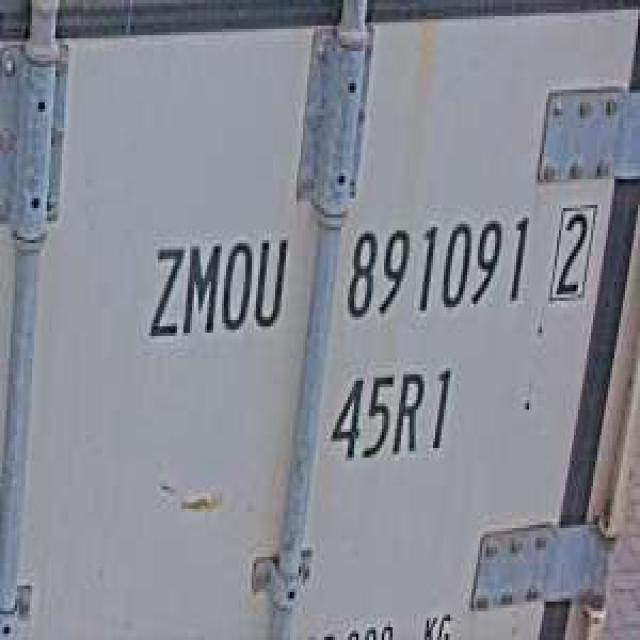dv: (546, 192, 600, 307)
owner: (141, 218, 292, 346)
serial: (337, 198, 536, 326)
size: (324, 356, 459, 470)
